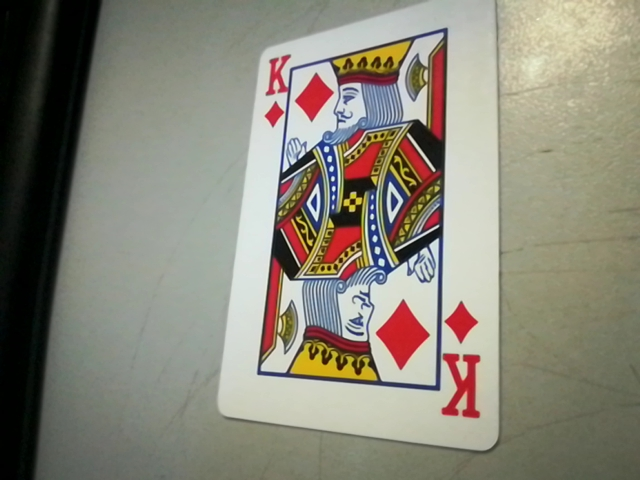fk k: (434, 299, 487, 430)
